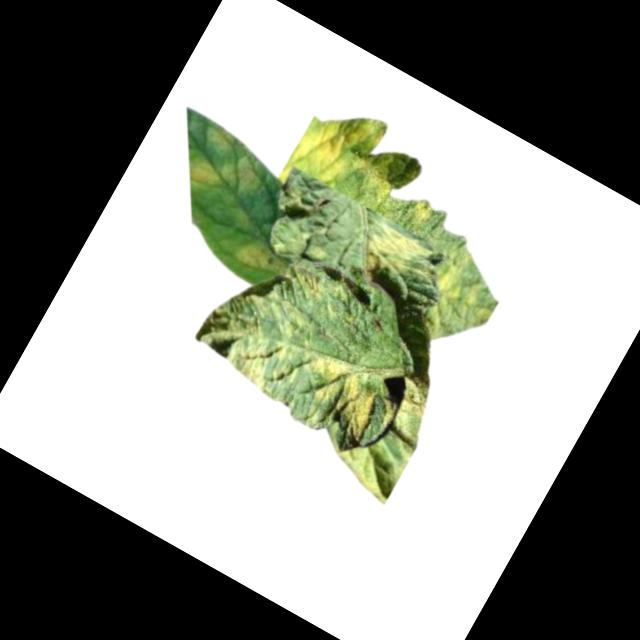Leaf_Mold: (285, 87, 418, 213), (408, 243, 515, 360), (281, 343, 392, 452), (176, 128, 272, 212), (350, 217, 433, 299), (215, 317, 296, 395), (384, 364, 443, 424), (231, 230, 293, 285), (284, 262, 329, 302), (403, 192, 439, 229), (198, 119, 236, 153)
